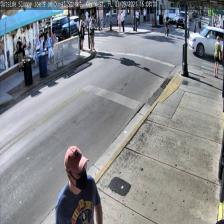person: (54, 145, 102, 223)
